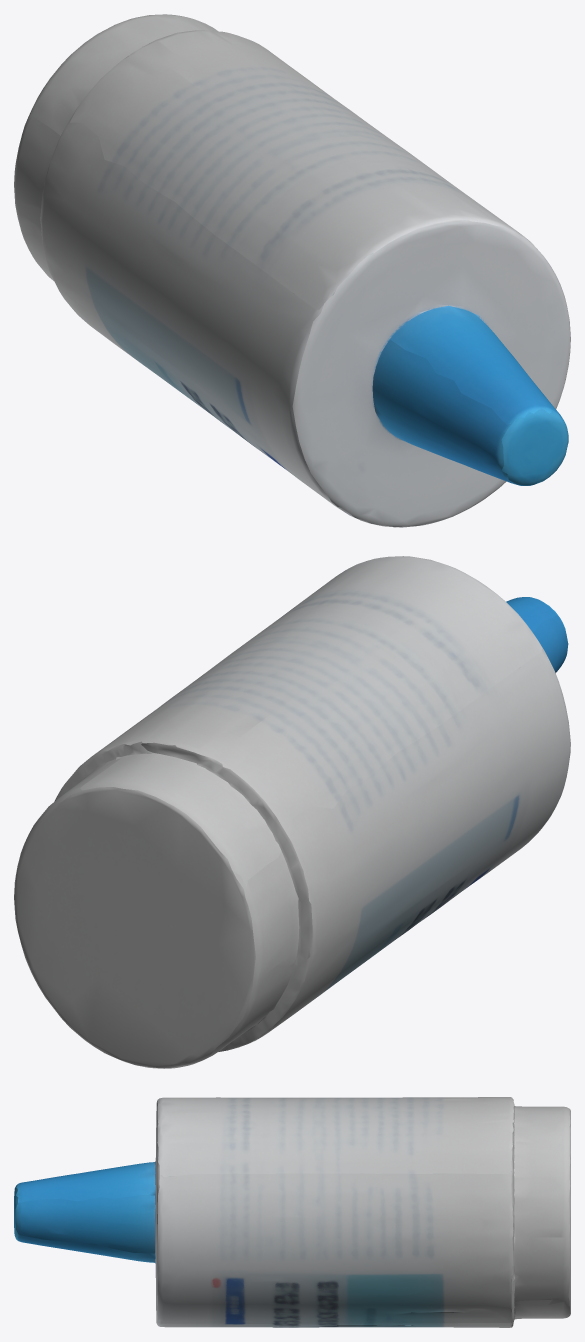
The model's file is wild6.glb.
3 views of the same model, one above another, from view 1: azimuth 30°, elevation 25°; view 2: azimuth 150°, elevation 25°; view 3: azimuth 270°, elevation 25° (orthographic). The views are drawn at different scales.
Visible parts, largest first — view 1: world; view 2: world; view 3: world.
Part boxes in pixels (bbox=[...]): world: bbox=[14, 14, 570, 527]; world: bbox=[14, 556, 570, 1068]; world: bbox=[14, 1097, 570, 1327].
Bounding box in the file's own units: 0.0839 × 0.0876 × 0.2084.
Materials: 1 (1 with a texture image).
